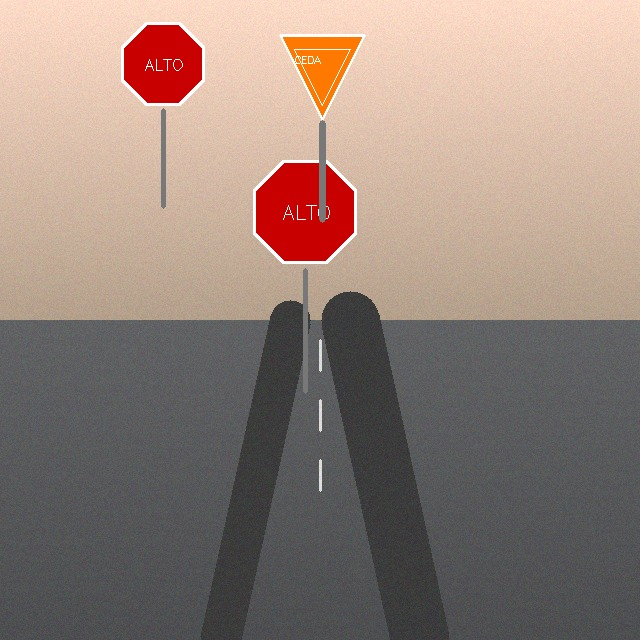alto: (248, 155, 363, 270), (117, 18, 209, 110)
ceda_el_paso: (276, 31, 368, 123)
